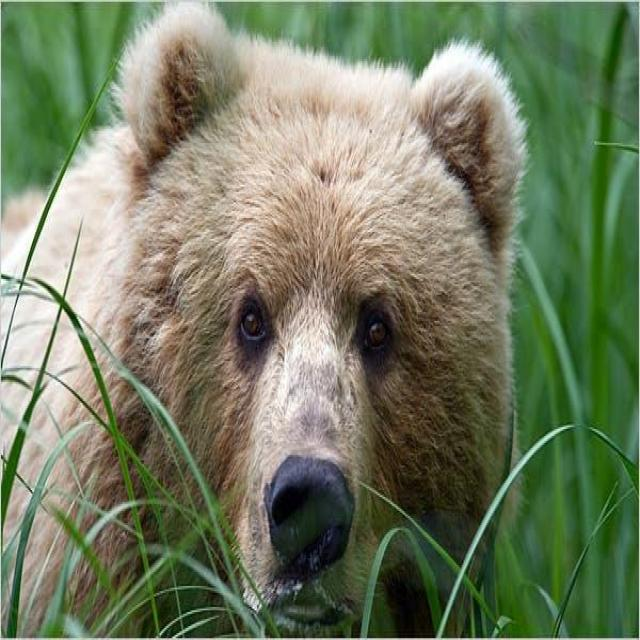Bear: (0, 2, 530, 633)
